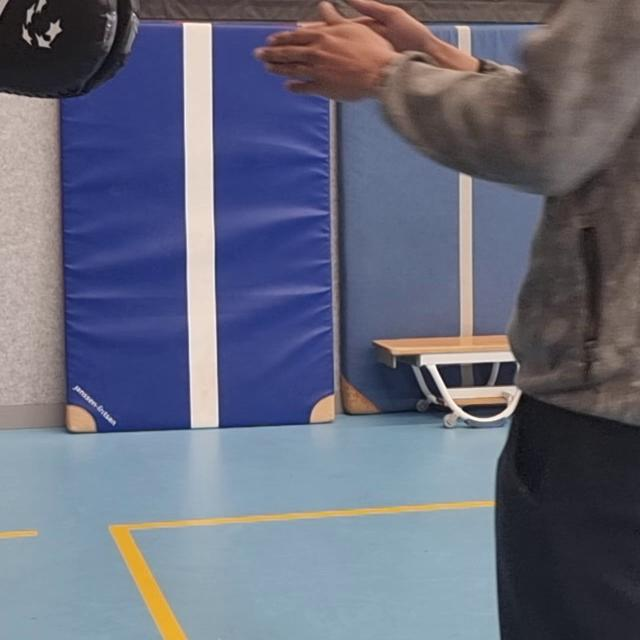paddle: (0, 0, 141, 98)
